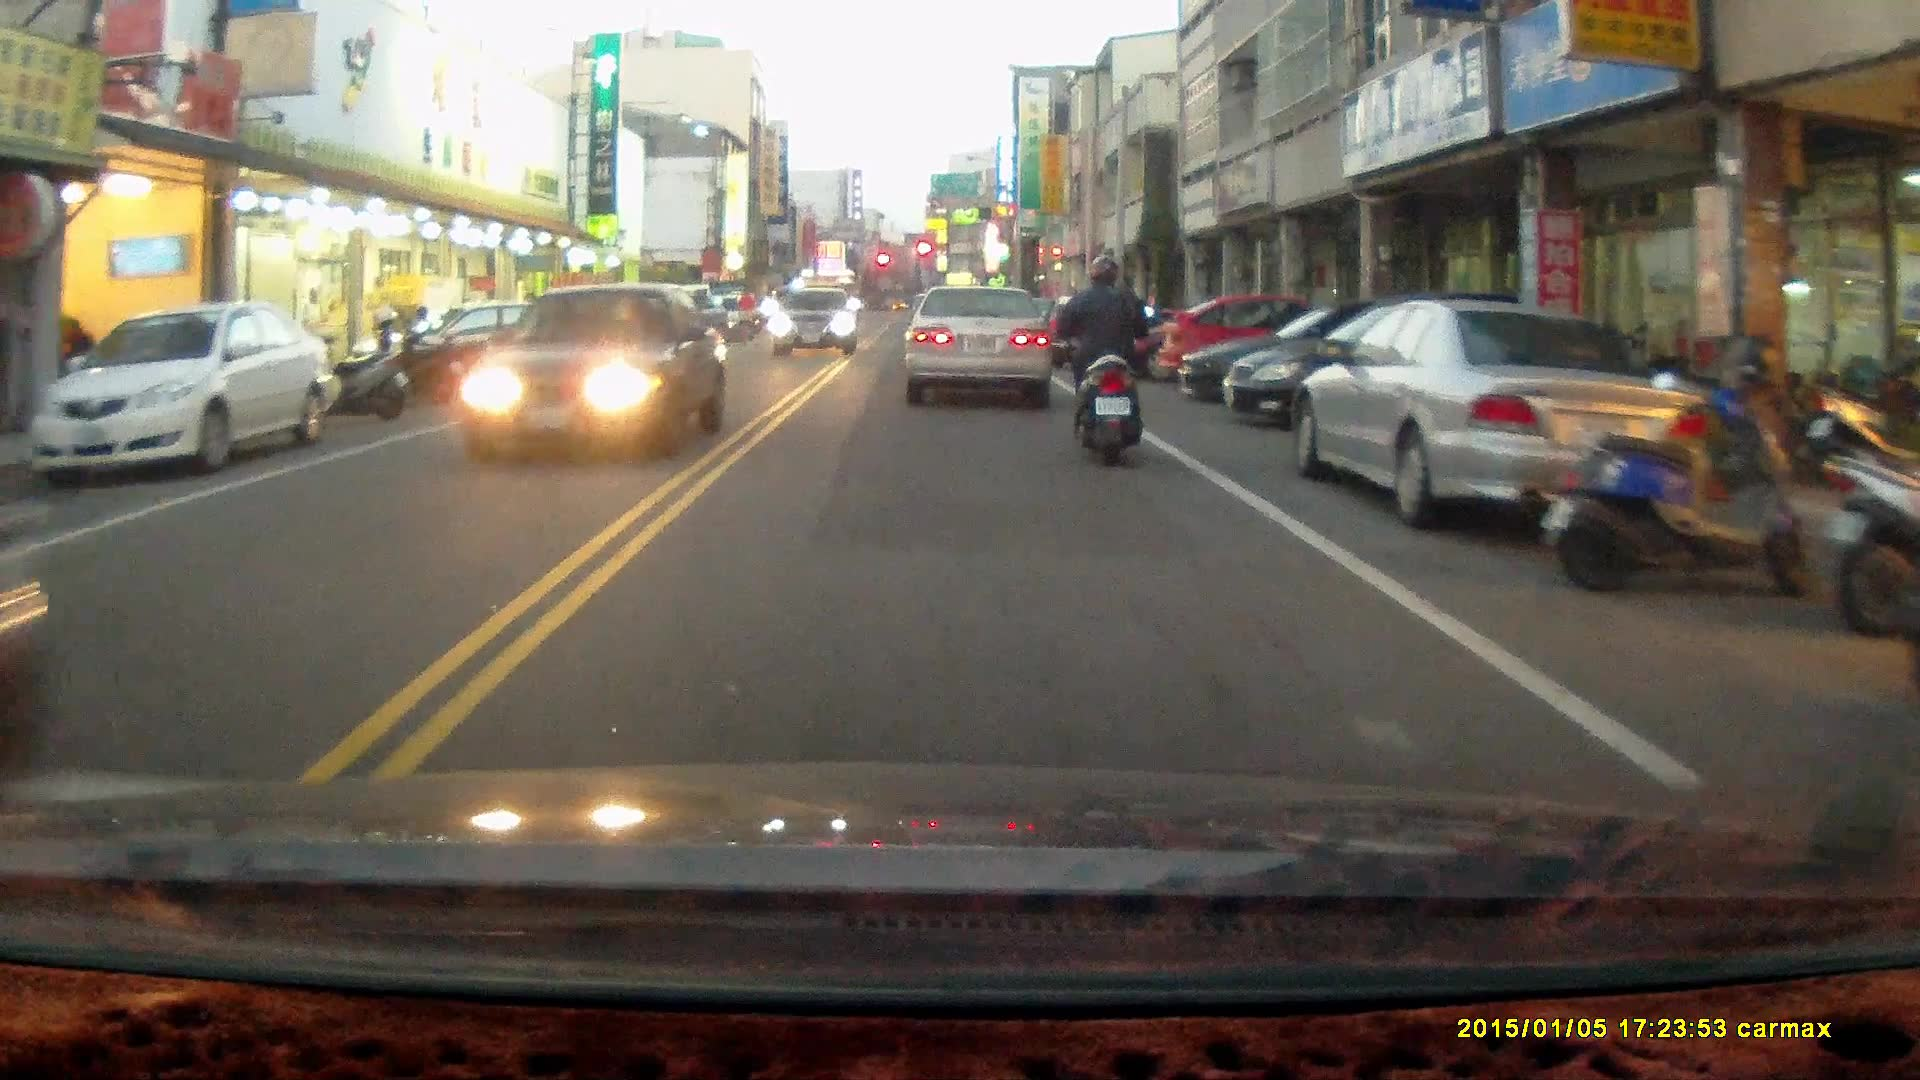pedestrian: (299, 287, 328, 361)
rider: (1050, 252, 1155, 463), (731, 284, 755, 345)
vehicle: (1293, 302, 1706, 536), (28, 295, 348, 475), (460, 284, 728, 468), (1219, 296, 1542, 441), (1172, 308, 1500, 406), (1156, 297, 1400, 391), (902, 284, 1054, 402), (394, 295, 583, 388), (767, 295, 859, 363)
